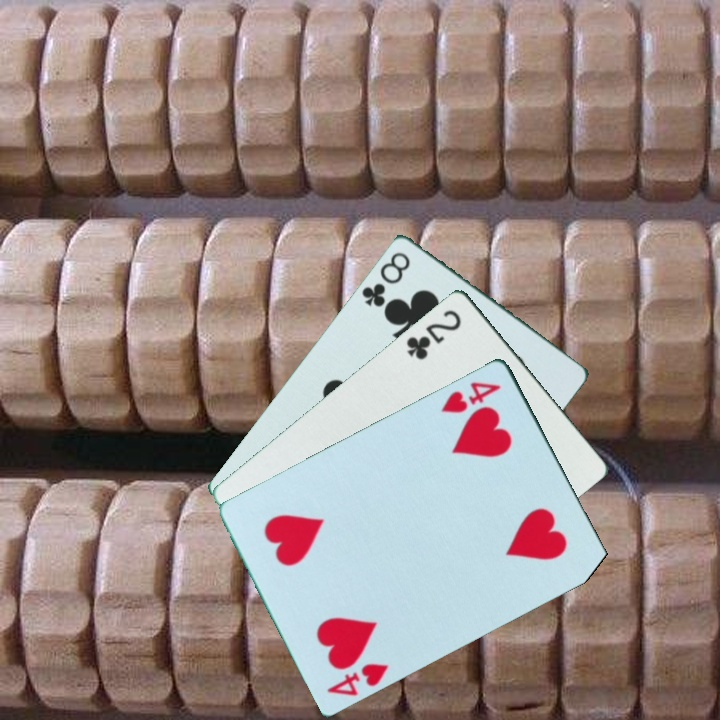2c: (402, 305, 465, 362)
4h: (323, 658, 392, 699), (437, 377, 505, 416)
8c: (358, 247, 414, 310)
